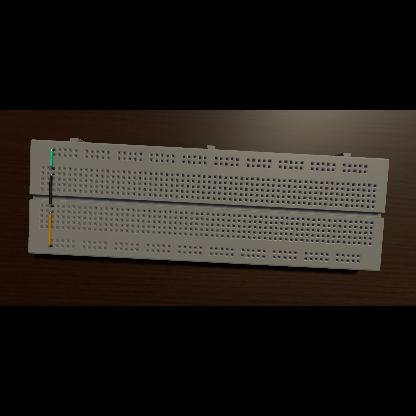breadboard: (28, 139, 390, 272)
wire: (48, 212, 53, 247), (50, 174, 54, 206), (50, 149, 54, 169)
